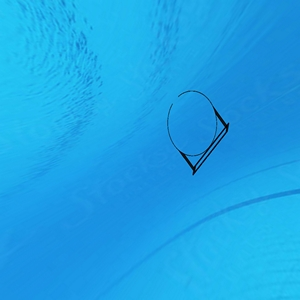circle: (167, 90, 230, 176)
